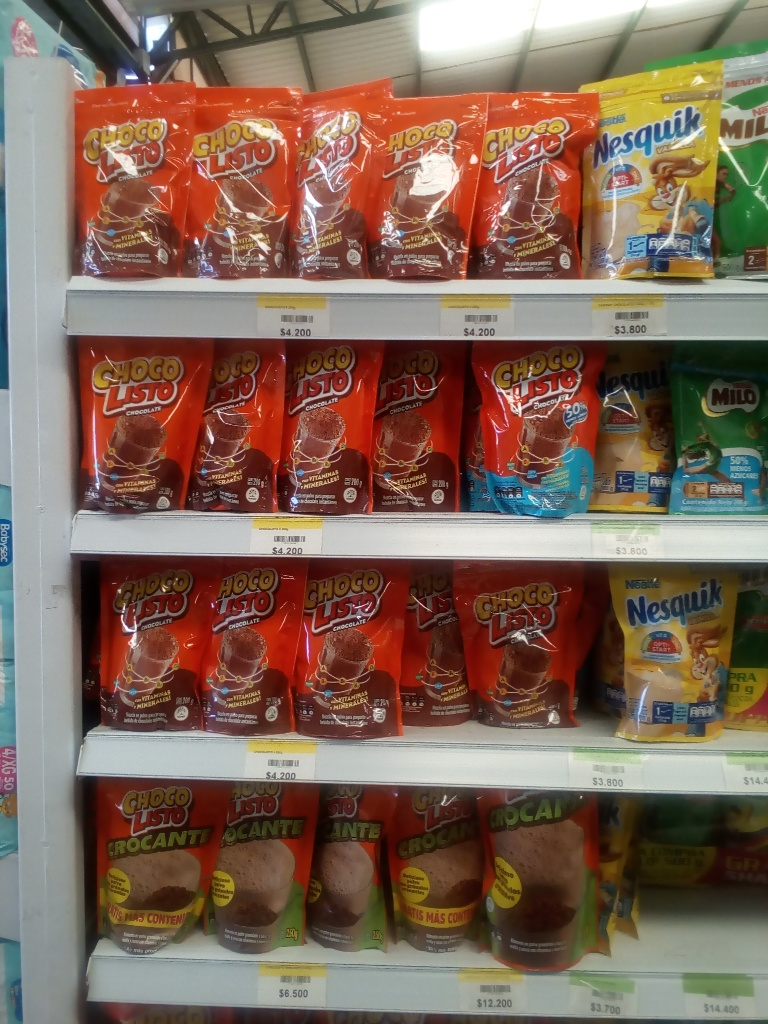COL0170102DYP25000: (304, 783, 406, 954)
COL0170102DYP50000: (485, 792, 597, 956)
COL0170103DYP20000: (66, 82, 187, 279)
COL0170104DYP20000: (468, 340, 601, 518)
COL0170205DYP20000: (672, 336, 766, 515)
COL0170306DYP20000: (575, 63, 721, 282)
